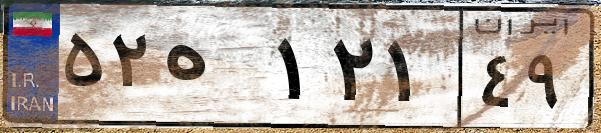1: (270, 28, 330, 110), (385, 28, 445, 110)
2: (330, 28, 385, 110), (110, 28, 158, 98)
4: (475, 38, 525, 113)
5: (57, 26, 110, 100)
9: (525, 38, 570, 115)
ه: (158, 20, 270, 120)
